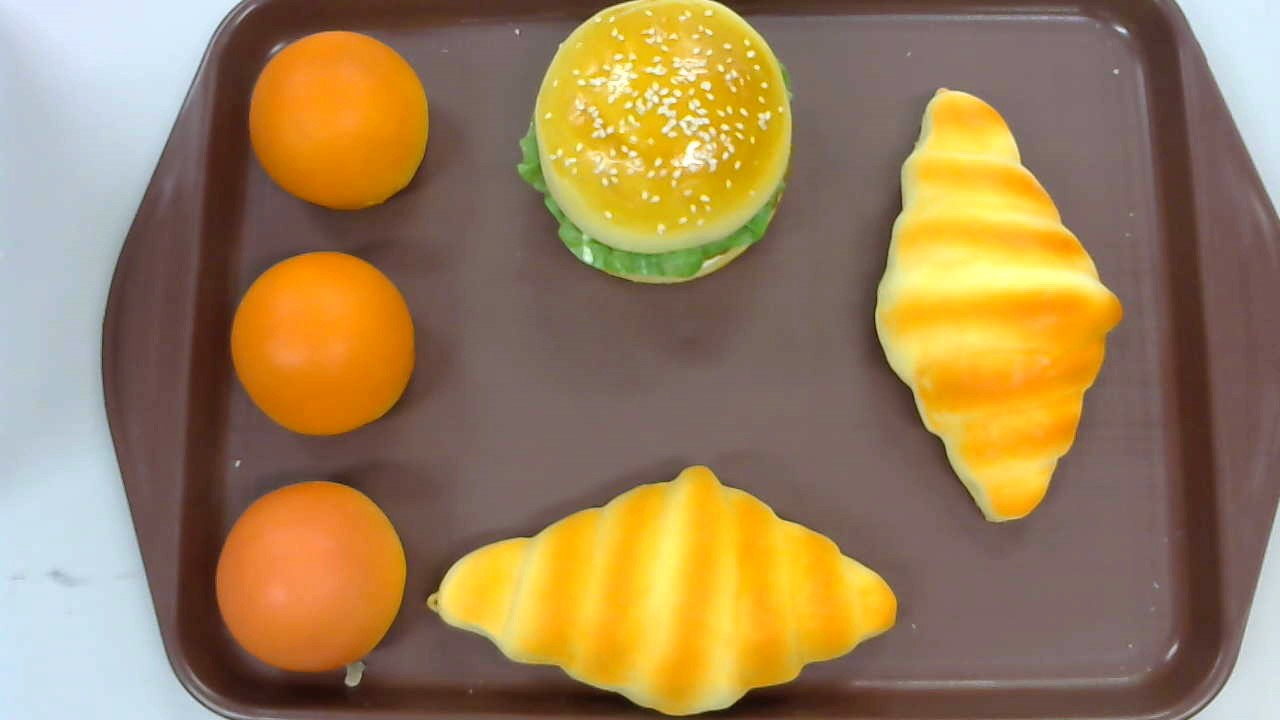bun: (214, 481, 406, 672), (229, 251, 414, 436), (250, 31, 428, 209)
croissant: (425, 466, 898, 716), (874, 86, 1123, 521)
hamburger: (516, 1, 795, 283)
